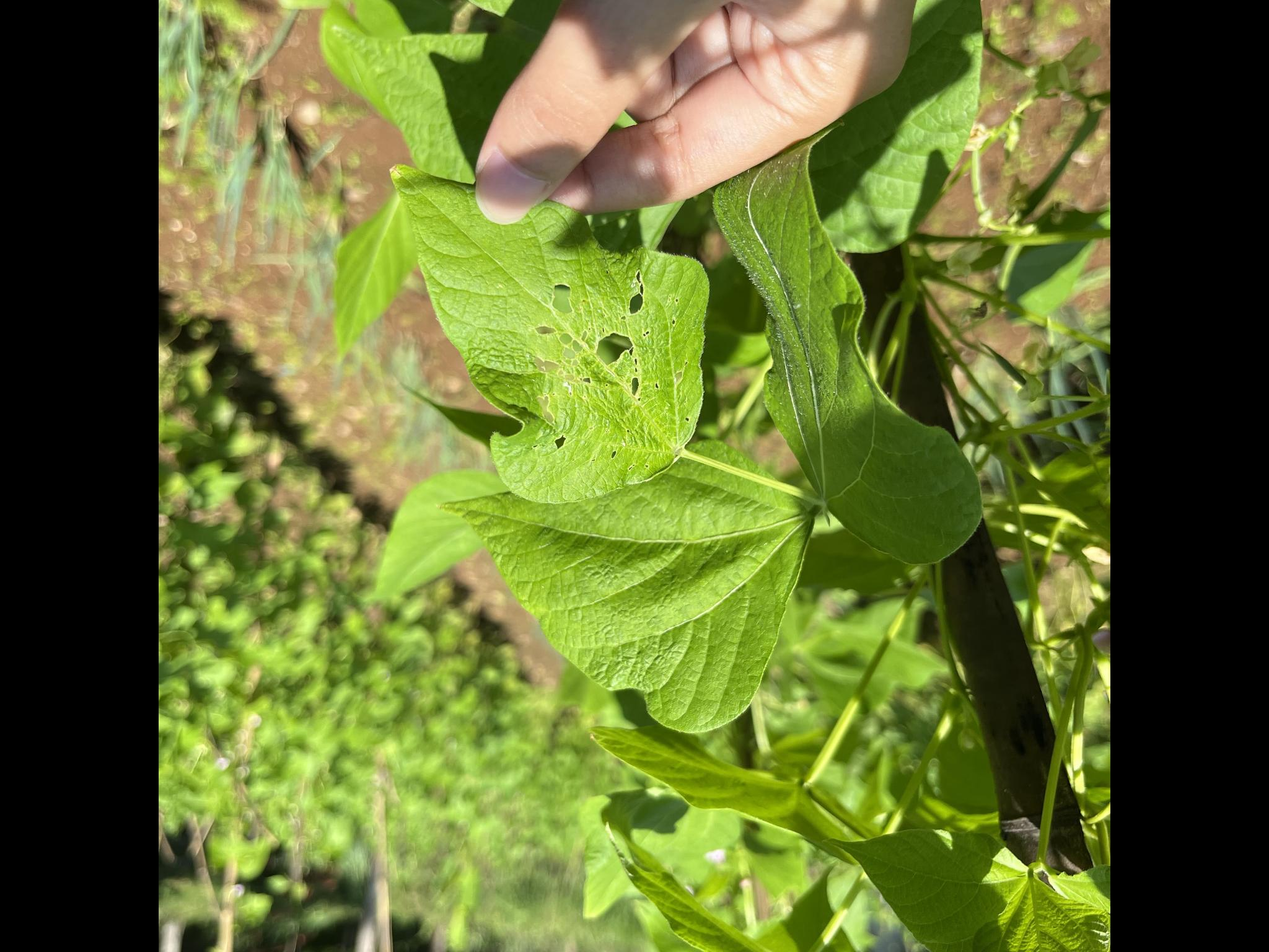embun tepung: (506, 231, 689, 456)
mozaik: (518, 233, 689, 460)
